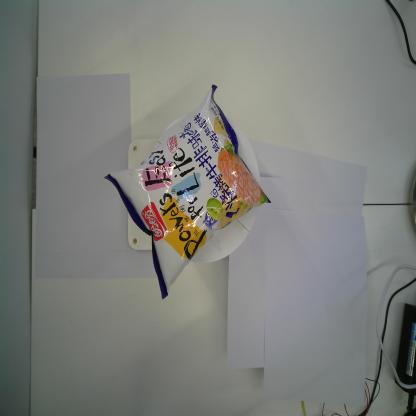Puffed Food: (103, 82, 274, 302)
